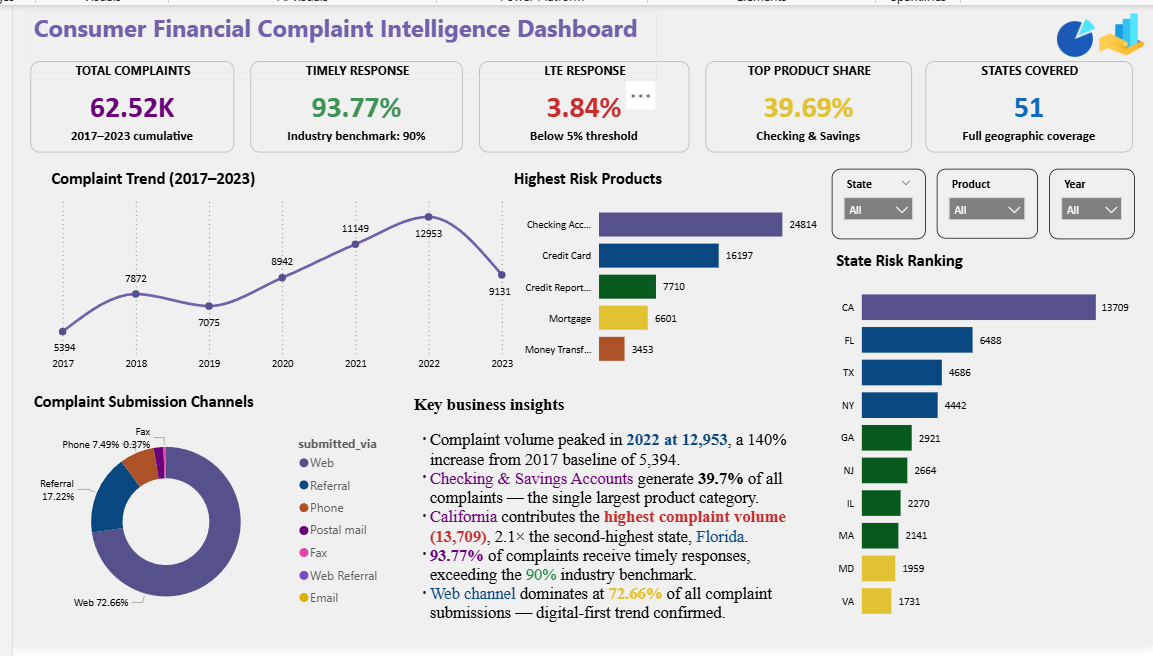

Layout of this report page (visuals, bound fields, positions):
{"tool":"powerbi","page":{"name":"Executive Overview","canvas":[1280,720],"ordinal":0},"visuals":[{"type":"card","title":"TOTAL COMPLAINTS","fields":{"Values":["KPIS.Total Complaints"]},"box":[19.7,63.2,228.8,102.5],"z":0},{"type":"card","title":"TOP PRODUCT SHARE","fields":{"Values":["KPIS.Top Product Share %"]},"box":[777.7,63.2,231.6,102.5],"z":1000},{"type":"card","title":"LTE RESPONSE","fields":{"Values":["KPIS.Late Response %"]},"box":[523.6,63.2,235.8,102.5],"z":2000},{"type":"card","title":"STATES COVERED","fields":{"Values":["KPIS.Total States"]},"box":[1024.8,63.2,233,102.5],"z":3000},{"type":"card","title":"TIMELY RESPONSE","fields":{"Values":["KPIS.Timely Response %"]},"box":[266.7,63.2,238.6,102.5],"z":4000},{"type":"lineChart","title":"Complaint Trend (2017–2023)","fields":{"Category":["Dim_Date.Year"],"Y":["KPIS.Total Complaints"]},"box":[37.9,183.9,529.2,235.8],"z":5000},{"type":"clusteredBarChart","title":"Highest Risk Products","fields":{"Y":["KPIS.Total Complaints"],"Category":["public complaints.Product_Short"]},"box":[557.3,183.9,351,235.8],"z":6000},{"type":"donutChart","title":"Complaint Submission Channels","fields":{"Category":["public complaints.submitted_via"],"Y":["KPIS.Total Complaints"]},"box":[18.2,433.8,411.3,270.9],"z":7000},{"type":"clusteredBarChart","title":"State Risk Ranking","fields":{"Category":["public complaints.state"],"Y":["KPIS.Total Complaints"]},"box":[920.1,275.2,338.6,429],"z":8000},{"type":"slicer","fields":{"Values":["Dim_Date.Year"]},"box":[1164.3,183.5,95.8,79.6],"z":9000},{"type":"slicer","fields":{"Values":["public complaints.state"]},"box":[920.1,183.5,105.2,79.6],"z":10000},{"type":"slicer","fields":{"Values":["public complaints.product"]},"box":[1038.1,183.5,113.3,78.2],"z":11000},{"type":"textbox","title":"Consumer Financial Complaint Intelligence Dashboard","box":[18.2,7,704.7,77.2],"z":12000},{"type":"textbox","box":[445,433.8,463.3,270.9],"z":13000},{"type":"image","box":[1211.5,0,67.4,67.4],"z":14000},{"type":"image","box":[1163.8,7,57.6,63.2],"z":15000}]}

Visuals, with their boxes on the page's 1280x720 design canvas (x1, y1, x2, y2). These are canvas units, not pixel positions in the 1153x656 screenshot, which may show the page scaled, cropped or inside an application window:
"TOTAL COMPLAINTS" card: box(20, 63, 248, 166)
"TOP PRODUCT SHARE" card: box(778, 63, 1009, 166)
"LTE RESPONSE" card: box(524, 63, 759, 166)
"STATES COVERED" card: box(1025, 63, 1258, 166)
"TIMELY RESPONSE" card: box(267, 63, 505, 166)
"Complaint Trend (2017–2023)" lineChart: box(38, 184, 567, 420)
"Highest Risk Products" clusteredBarChart: box(557, 184, 908, 420)
"Complaint Submission Channels" donutChart: box(18, 434, 430, 705)
"State Risk Ranking" clusteredBarChart: box(920, 275, 1259, 704)
slicer - Dim_Date.Year: box(1164, 184, 1260, 263)
slicer - public complaints.state: box(920, 184, 1025, 263)
slicer - public complaints.product: box(1038, 184, 1151, 262)
"Consumer Financial Complaint Intelligence Dashboard" textbox: box(18, 7, 723, 84)
textbox: box(445, 434, 908, 705)
image: box(1212, 0, 1279, 67)
image: box(1164, 7, 1221, 70)
